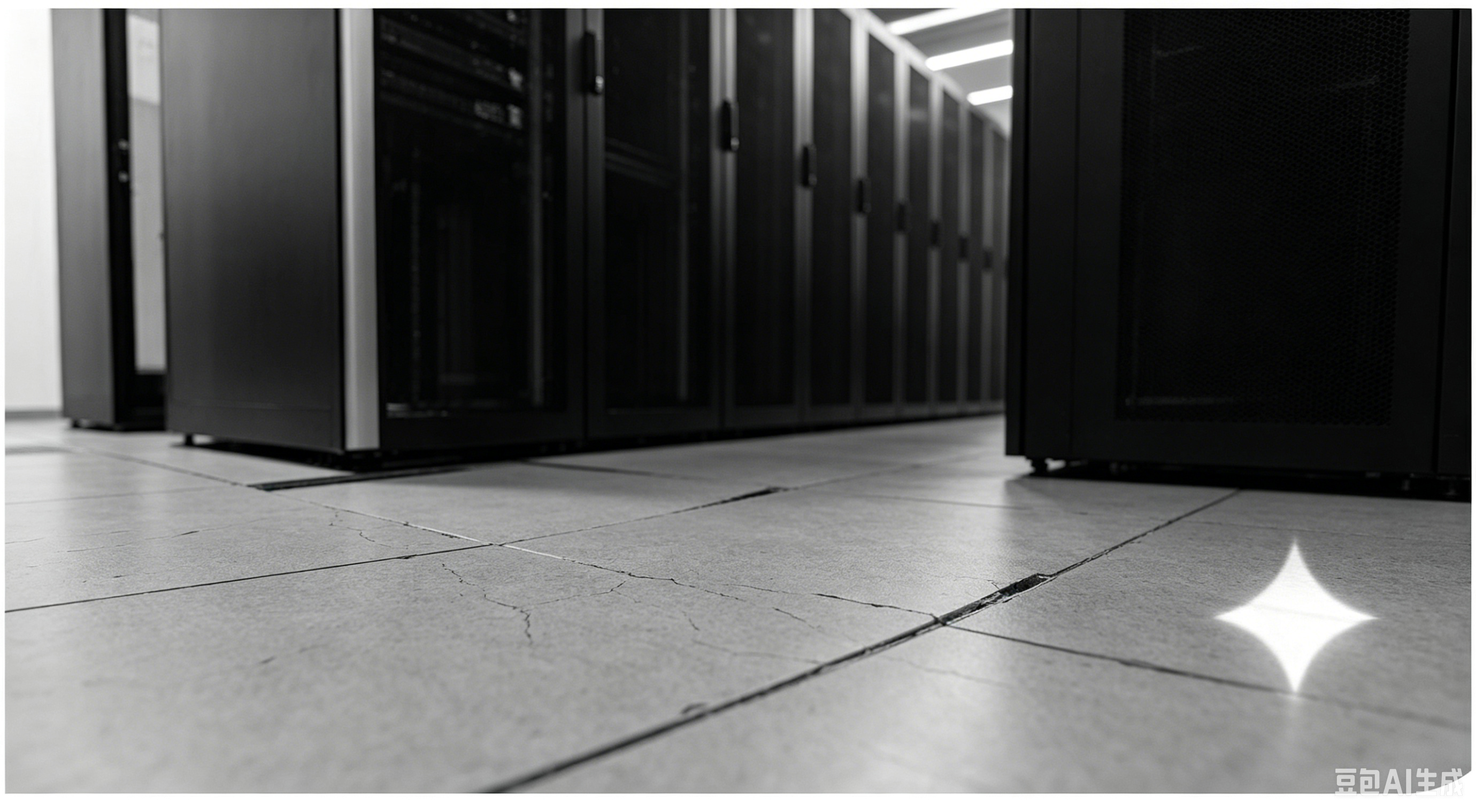floor_defect: (240, 440, 798, 558), (783, 610, 952, 681), (439, 563, 549, 647), (942, 560, 1054, 634), (558, 558, 753, 600)
